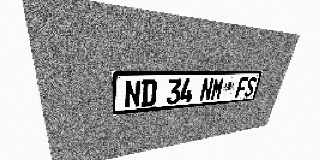3: (166, 79, 182, 105)
4: (179, 78, 195, 103)
D: (140, 79, 157, 107)
F: (235, 77, 249, 98)
M: (210, 78, 225, 100)
N: (124, 80, 141, 109), (199, 78, 214, 101)
S: (243, 77, 257, 97)
